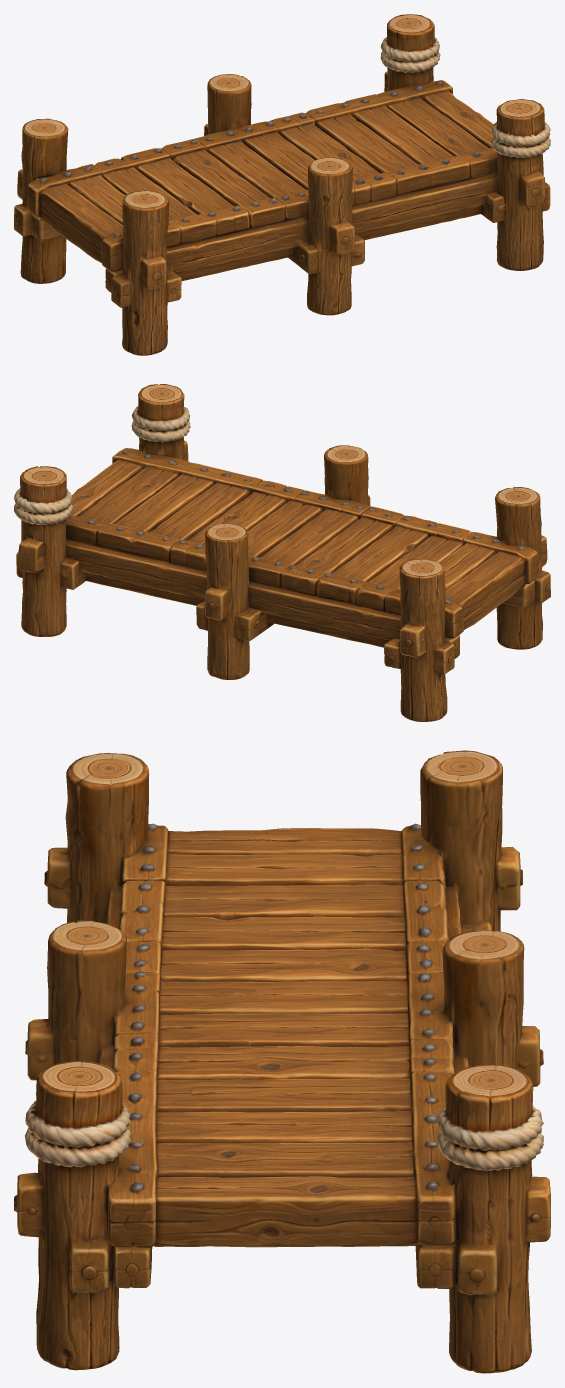
Rendered from texture.glb.
3 views of the same model, one above another, from view 1: azimuth 30°, elevation 25°; view 2: azimuth 150°, elevation 25°; view 3: azimuth 270°, elevation 25° (orthographic). The views are drawn at different scales.
Visible parts, largest first — view 1: tripo_node_965d1abd-d95b-4c68-96bc-6e693e5e8301; view 2: tripo_node_965d1abd-d95b-4c68-96bc-6e693e5e8301; view 3: tripo_node_965d1abd-d95b-4c68-96bc-6e693e5e8301.
Part boxes in pixels (bbox=[...]): tripo_node_965d1abd-d95b-4c68-96bc-6e693e5e8301: bbox=[14, 14, 550, 355]; tripo_node_965d1abd-d95b-4c68-96bc-6e693e5e8301: bbox=[14, 384, 550, 721]; tripo_node_965d1abd-d95b-4c68-96bc-6e693e5e8301: bbox=[14, 750, 550, 1373].
Size of the model in its own units: 1 by 0.343 by 0.6021.
Materials: 1 (1 with a texture image).
